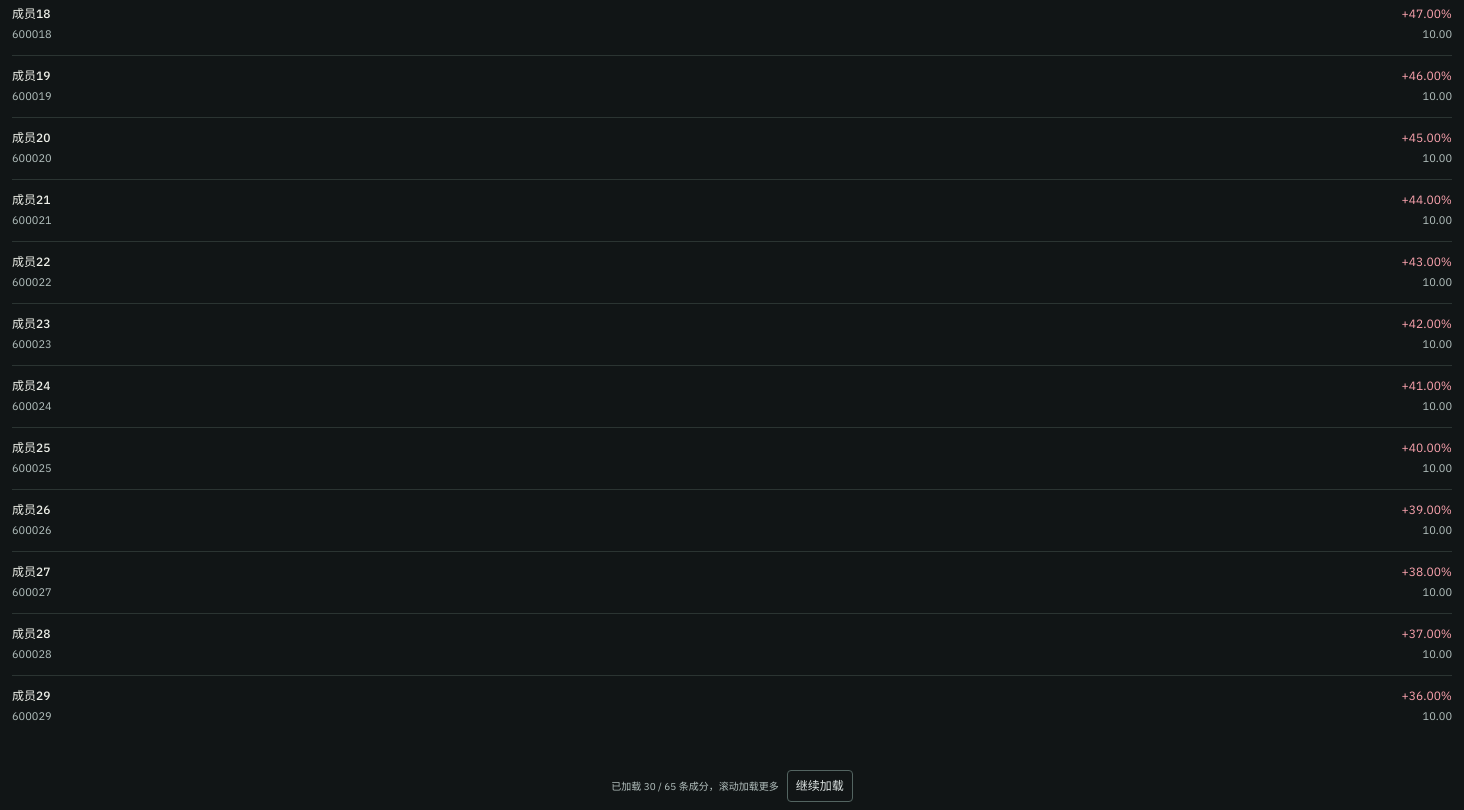
Test: 发现成分是原右栏只读参考 › loads the complete returned range incrementally using its parent's scroll owner and a keyboard fallback
The width and height of the screenshot is (1464, 810).
Click the button "继续加载" at (820, 786), box [787, 770, 853, 802]
(page scrolled)
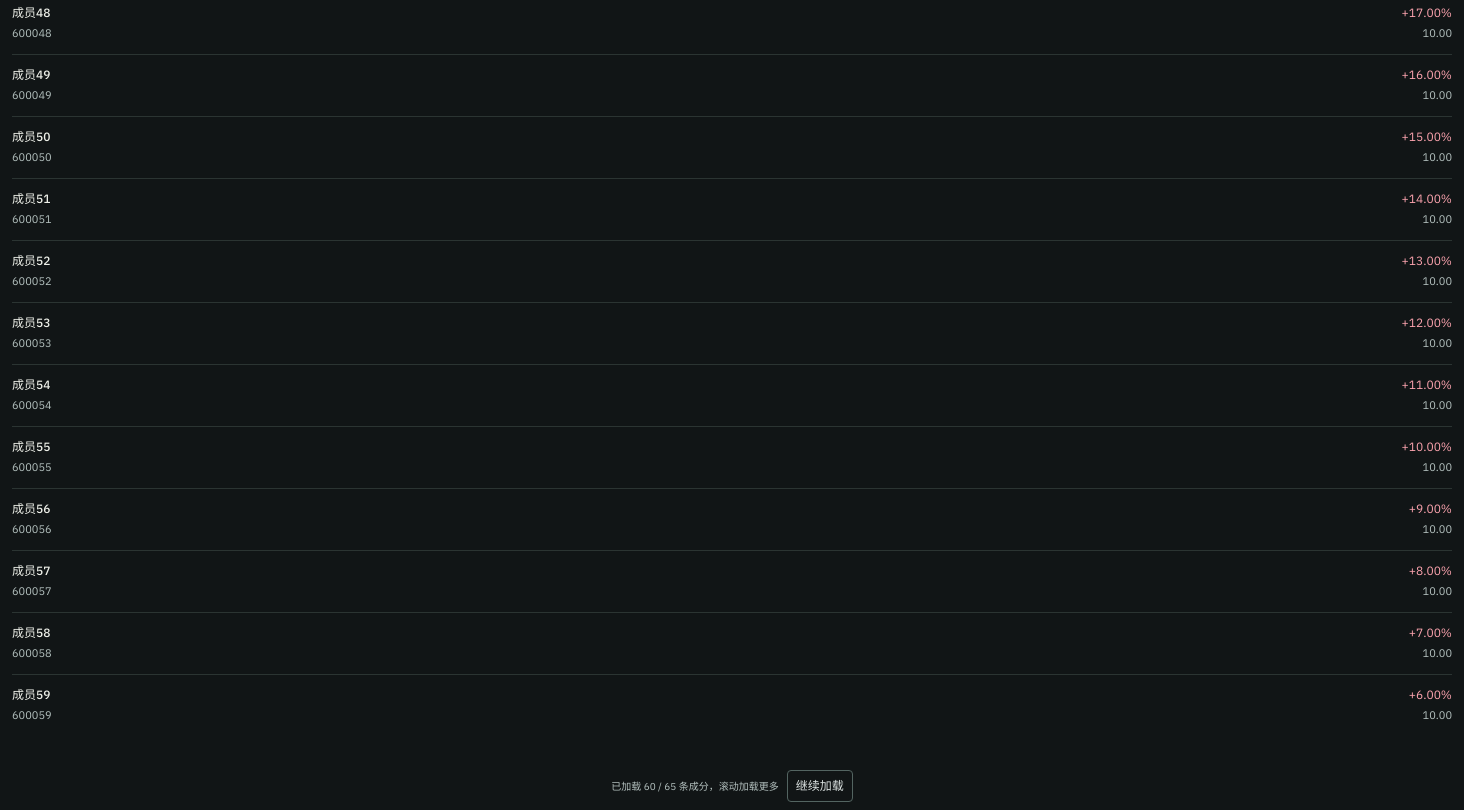
Click the button "继续加载" at (820, 786), box [787, 770, 853, 802]
(page scrolled)
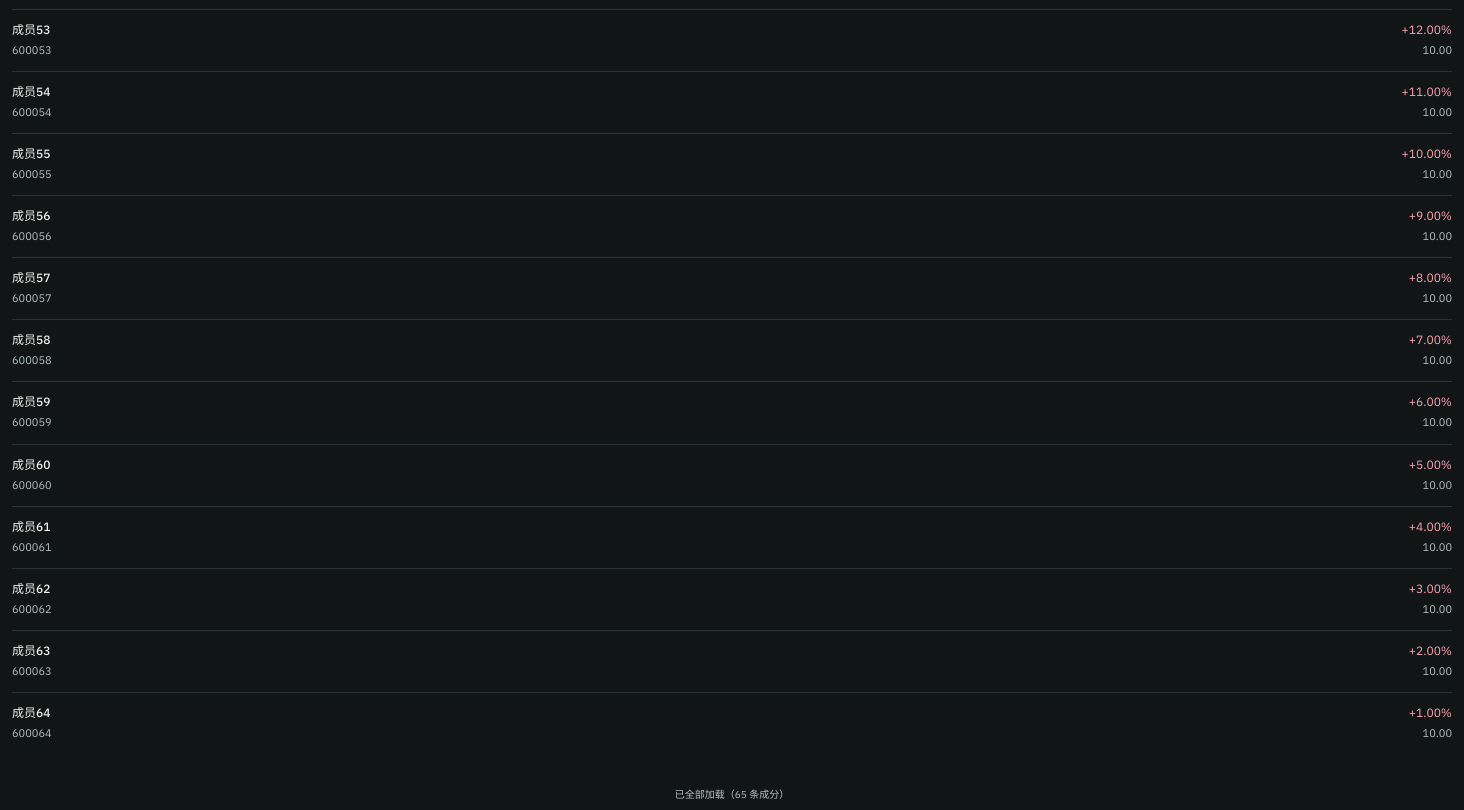
Check: the text "已全部加载（65 条成分）" is shown, box [675, 788, 789, 801]
